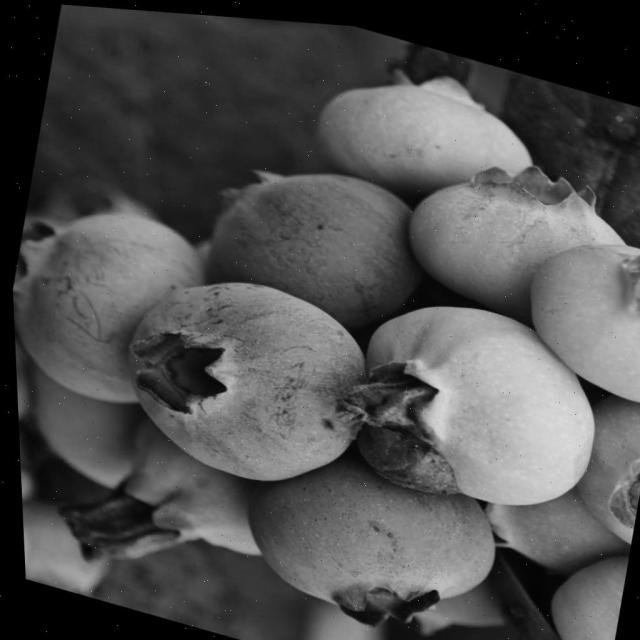Semi-RipeBlueBerry: (95, 245, 385, 508), (221, 429, 510, 640), (190, 133, 439, 333)
UnripeBlueBerry: (332, 270, 618, 525)
